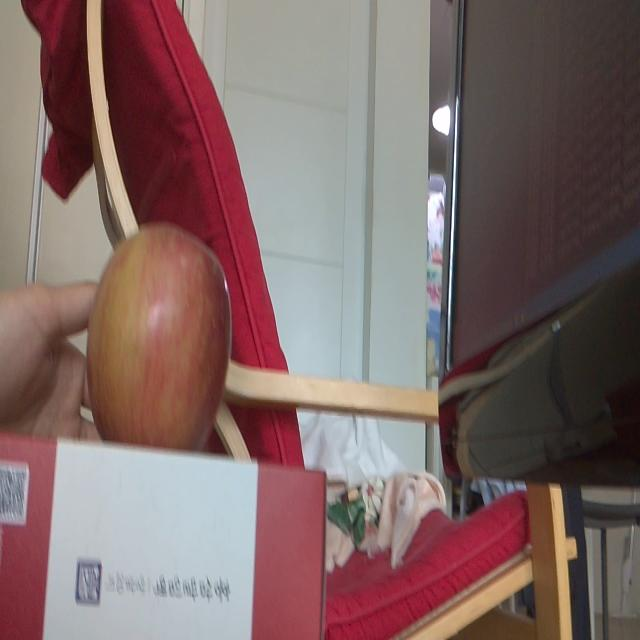apple: (86, 221, 233, 450)
